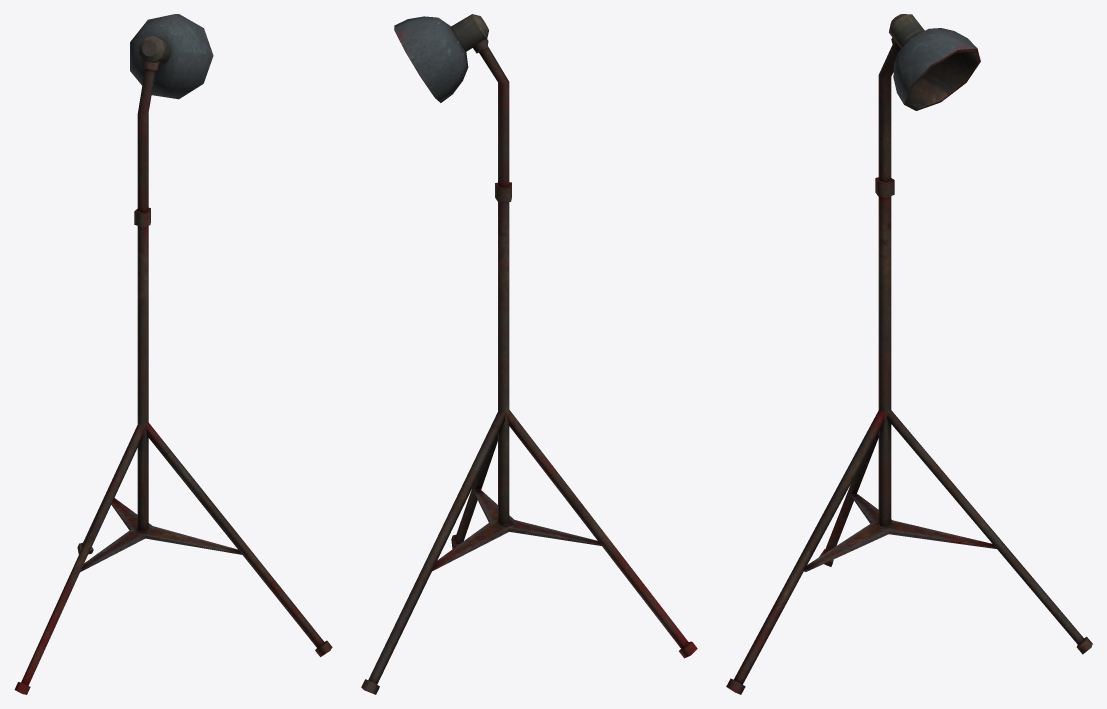
File: SpotLight.FBX
The picture shows the model from 3 angles, left to right: view 1: azimuth 30°, elevation 25°; view 2: azimuth 150°, elevation 25°; view 3: azimuth 270°, elevation 25°; orthographic projection. The views are drawn at different scales.
Parts seen in each view (by area): view 1: SpotLight; view 2: SpotLight; view 3: SpotLight.
Boxes of the visible parts, x1,y1,x2,y2 form: SpotLight: [14, 14, 332, 694]; SpotLight: [361, 14, 697, 694]; SpotLight: [726, 14, 1092, 694].
Bounding box in the file's own units: 85.27 × 176 × 91.61.
